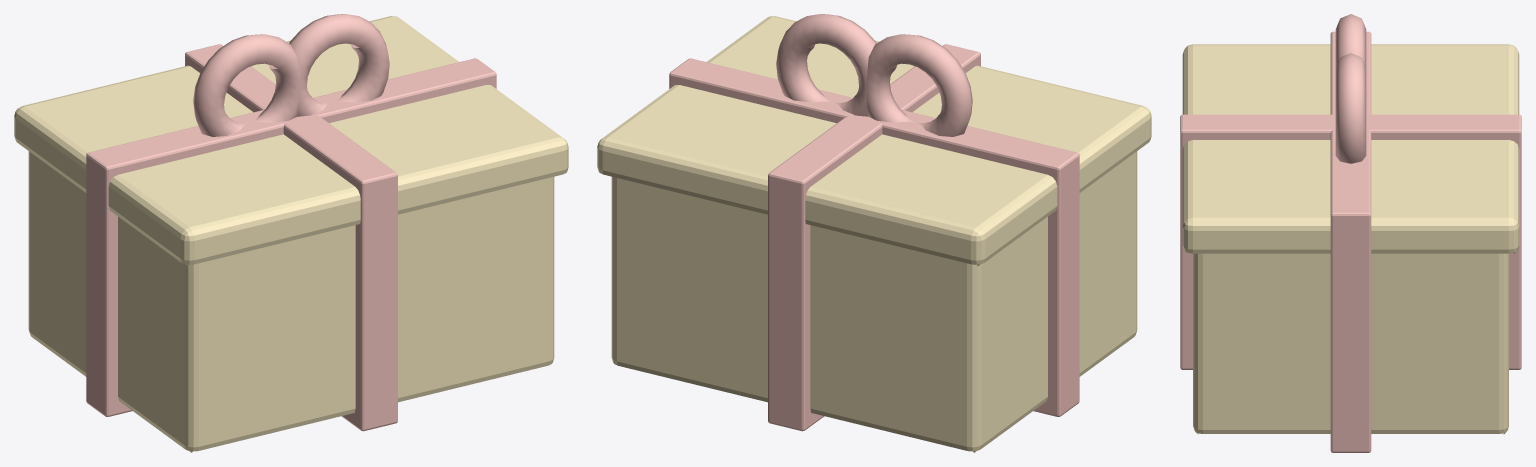
Rendered from box_butter.glb.
3 views of the same model, side by side, from view 1: azimuth 30°, elevation 25°; view 2: azimuth 150°, elevation 25°; view 3: azimuth 270°, elevation 25° (orthographic). The views are drawn at different scales.
Visible parts, largest first — view 1: box_butter_butter, box_butter_coral; view 2: box_butter_butter, box_butter_coral; view 3: box_butter_butter, box_butter_coral.
Boxes of the visible parts, x1,y1,x2,y2 form: box_butter_butter: [14, 16, 568, 452]; box_butter_coral: [86, 14, 496, 431]; box_butter_butter: [597, 16, 1151, 452]; box_butter_coral: [669, 14, 1079, 431]; box_butter_butter: [1182, 44, 1519, 434]; box_butter_coral: [1180, 14, 1521, 452].
Bounding box in the file's own units: 0.85 × 0.6985 × 0.67.
